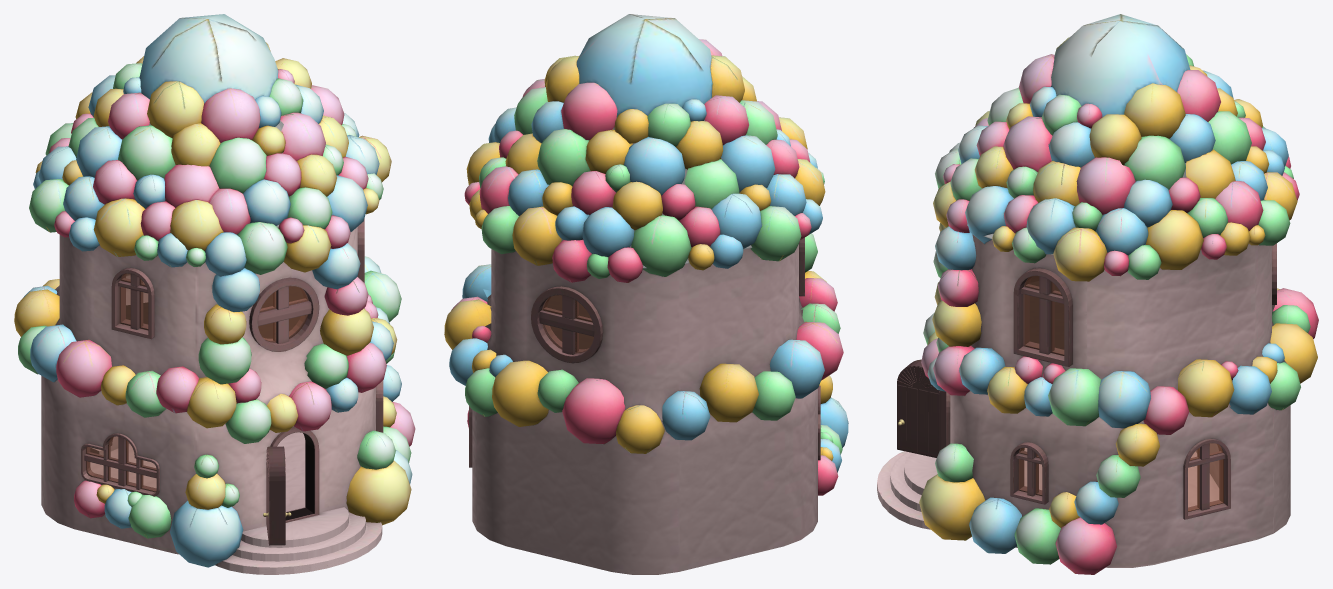
File: candyStructure1.glb
3 renders of one model, left to right at view 1: azimuth 30°, elevation 25°; view 2: azimuth 150°, elevation 25°; view 3: azimuth 270°, elevation 25°, orthographic. The views are drawn at different scales.
Parts seen in each view (by area): view 1: Cylinder; view 2: Cylinder; view 3: Cylinder.
Part boxes in pixels (left/top/right/bottom): Cylinder: left=14, top=14, right=415, bottom=574; Cylinder: left=444, top=14, right=848, bottom=574; Cylinder: left=877, top=14, right=1318, bottom=574.
Bounding box in the file's own units: 15.16 × 18.9 × 15.92.
Materials: 3 (2 with a texture image).
